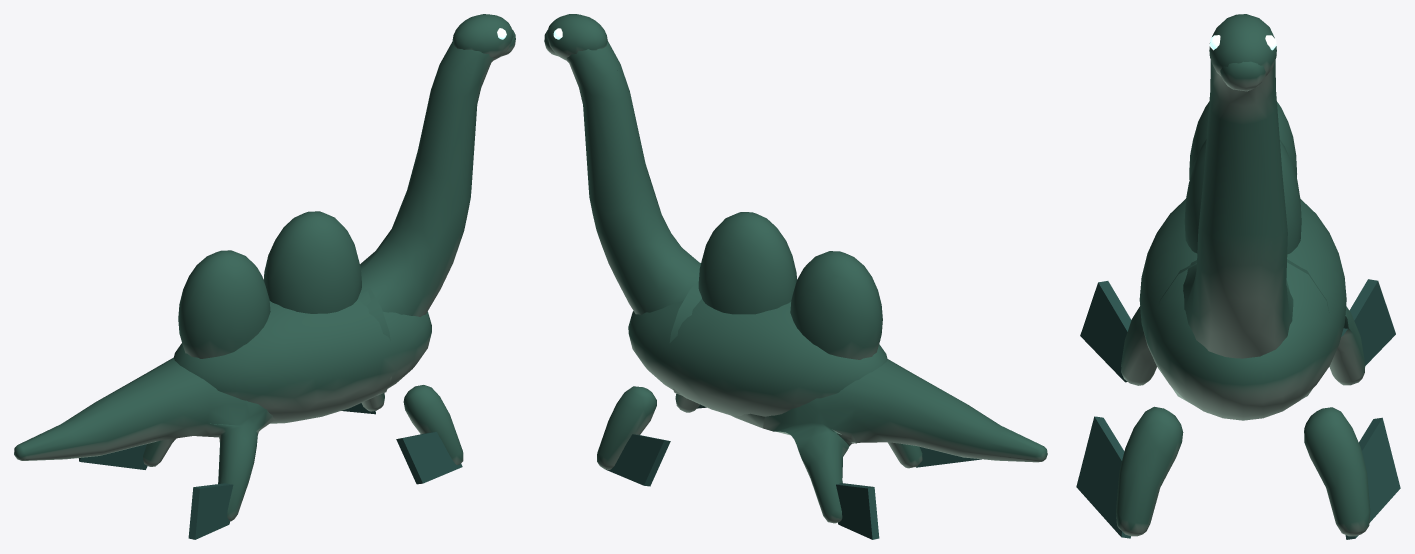
File: nessie.glb
3 renders of one model, left to right at view 1: azimuth 30°, elevation 25°; view 2: azimuth 150°, elevation 25°; view 3: azimuth 270°, elevation 25°, orthographic. The views are drawn at different scales.
Parts seen in each view (by area): view 1: nessie.001; view 2: nessie.001; view 3: nessie.001.
Part boxes in pixels (<box>): nessie.001: <box>14,14,515,539</box>; nessie.001: <box>544,14,1047,539</box>; nessie.001: <box>1076,14,1400,539</box>.
Bounding box in the file's own units: 3.56 × 2.79 × 1.44.
